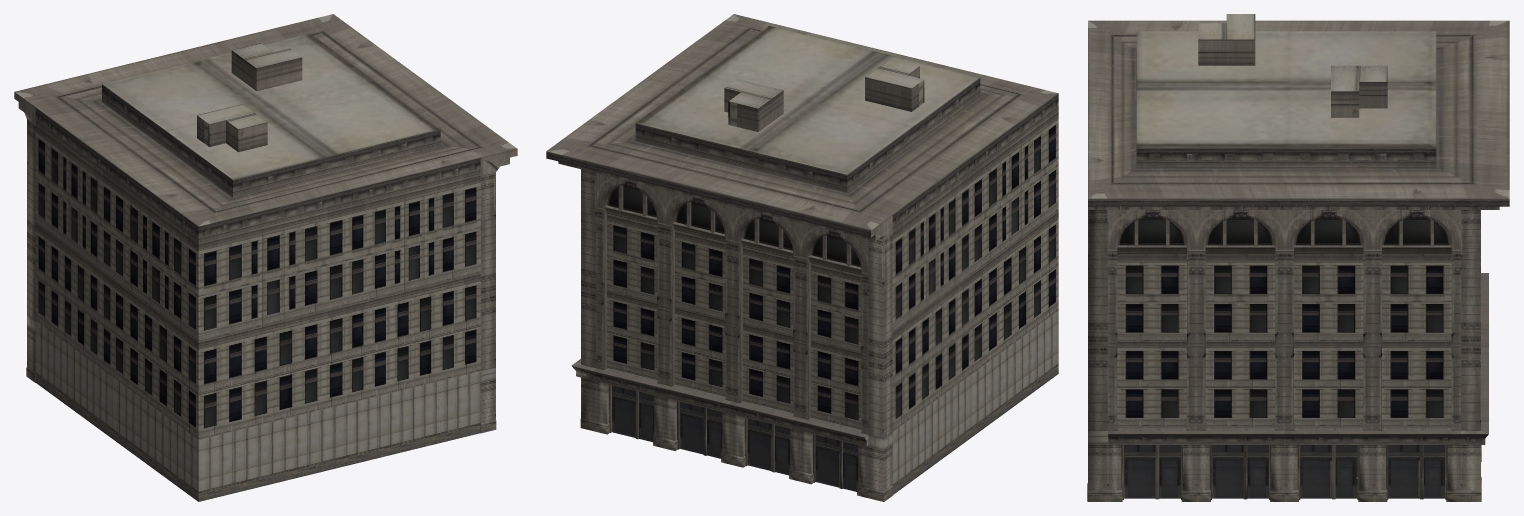
File: tutorial_building13.gltf
The picture shows the model from 3 angles, left to right: view 1: azimuth 30°, elevation 25°; view 2: azimuth 150°, elevation 25°; view 3: azimuth 270°, elevation 25°; orthographic projection. The views are drawn at different scales.
Visible parts, largest first — view 1: building13; view 2: building13; view 3: building13.
Boxes of the visible parts, x1=… form: building13: x1=14, y1=14, x2=517, y2=501; building13: x1=546, y1=14, x2=1058, y2=501; building13: x1=1087, y1=14, x2=1509, y2=501.
Size of the model in its own units: 33 by 31.19 by 33.
2 materials, 2 textured.
